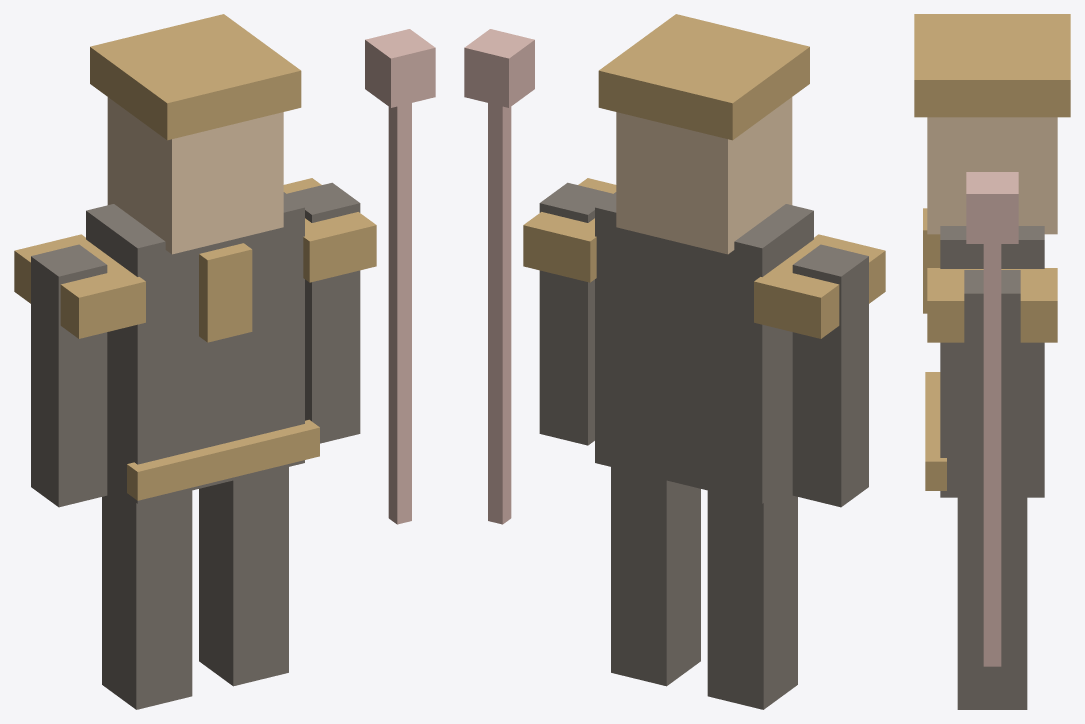
The model's file is 19_thorne_gearmantle_mechanist_of.glb.
3 renders of one model, left to right at view 1: azimuth 30°, elevation 25°; view 2: azimuth 150°, elevation 25°; view 3: azimuth 270°, elevation 25°, orthographic.
Parts seen in each view (by area): view 1: Thorne Gearmantle, Mechanist of; view 2: Thorne Gearmantle, Mechanist of; view 3: Thorne Gearmantle, Mechanist of.
Part boxes in pixels (<box>): Thorne Gearmantle, Mechanist of: <box>14,14,435,709</box>; Thorne Gearmantle, Mechanist of: <box>464,14,885,709</box>; Thorne Gearmantle, Mechanist of: <box>914,14,1070,709</box>.
Size of the model in its own units: 1.01 by 1.59 by 0.3589.
